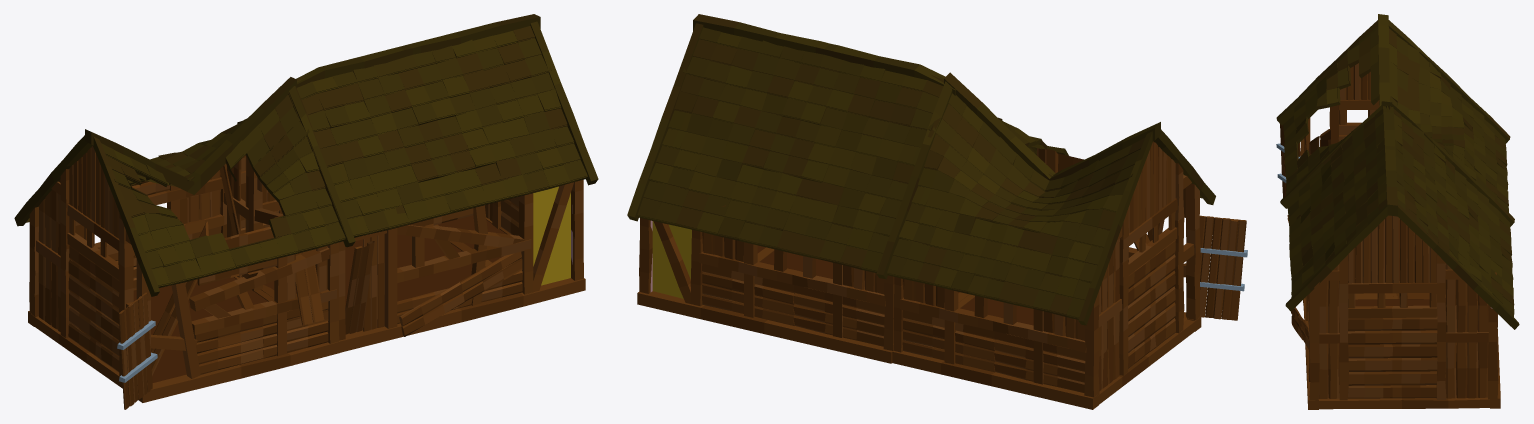
The model's file is abandoned shack.fbx.
3 renders of one model, left to right at view 1: azimuth 30°, elevation 25°; view 2: azimuth 150°, elevation 25°; view 3: azimuth 270°, elevation 25°, orthographic. The views are drawn at different scales.
Visible parts, largest first — view 1: house 1.002; view 2: house 1.002; view 3: house 1.002.
Part boxes in pixels (bbox=[...]): house 1.002: bbox=[14, 14, 598, 409]; house 1.002: bbox=[627, 14, 1247, 409]; house 1.002: bbox=[1276, 14, 1519, 409].
Bounding box in the file's own units: 3728 × 3512 × 7377.
